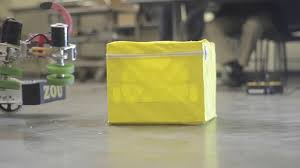cube: (106, 39, 217, 125)
